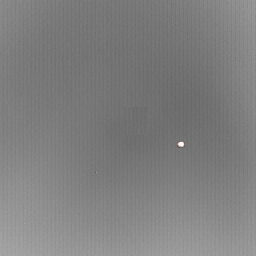Target: (176, 140, 185, 149)
